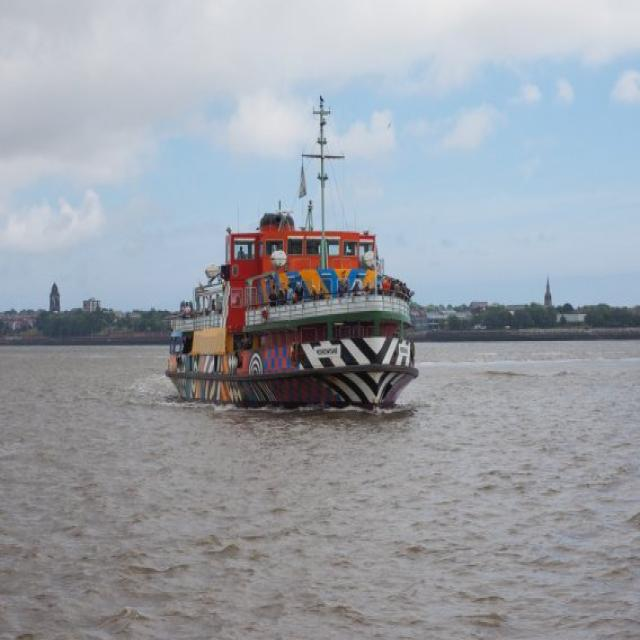houseboat: (165, 125, 422, 411)
